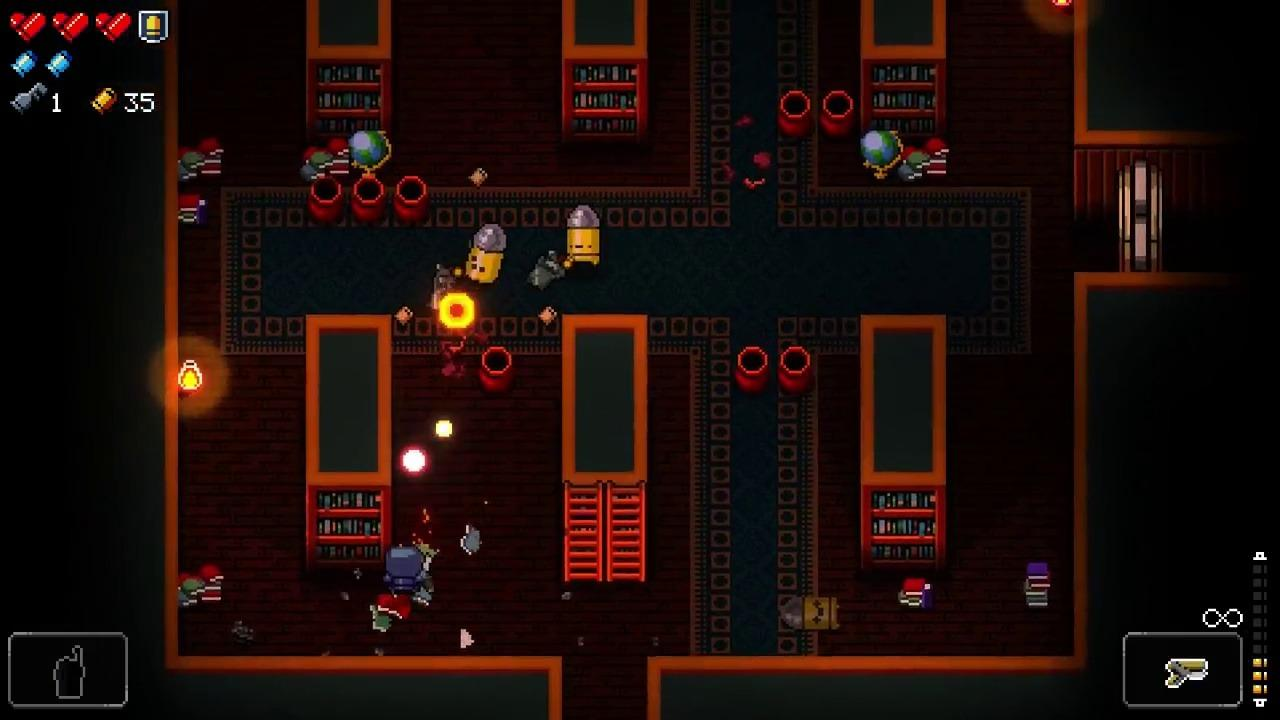bullet: (399, 446, 429, 475)
bullet_kin: (463, 222, 506, 287), (563, 205, 601, 268)
dead_bullet_kin: (780, 595, 839, 631)
locked_door: (1118, 160, 1163, 273)
player: (383, 545, 422, 597)
